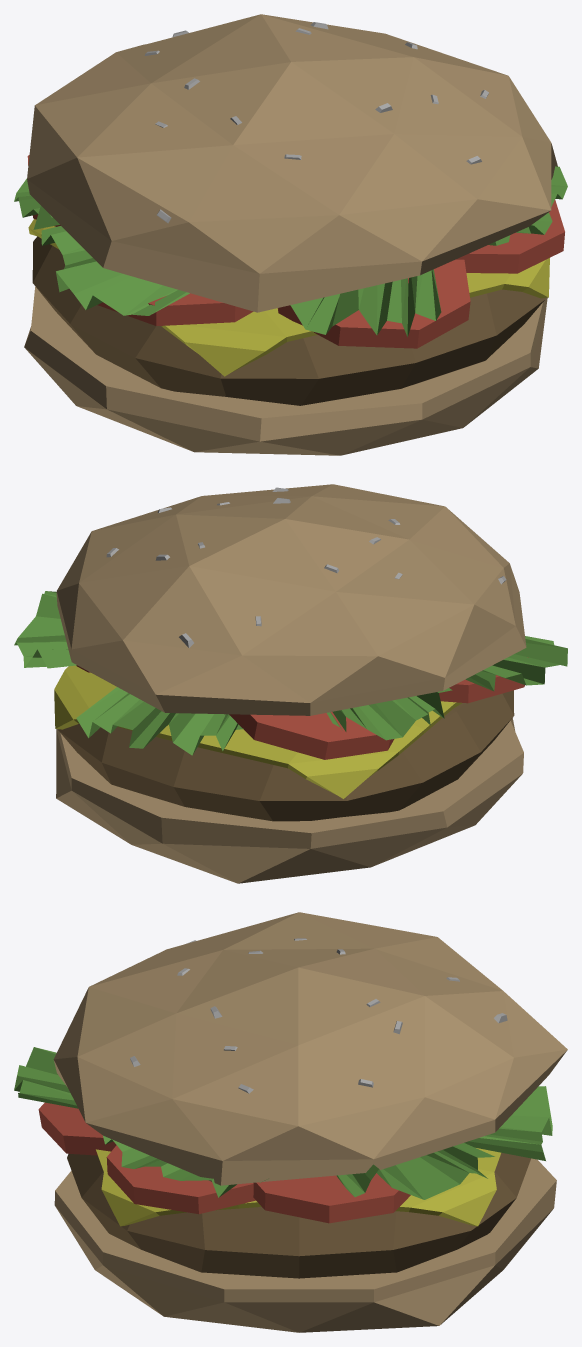
The model's file is Burger.obj.
The picture shows the model from 3 angles, top to bottom: view 1: azimuth 30°, elevation 25°; view 2: azimuth 150°, elevation 25°; view 3: azimuth 270°, elevation 25°; orthographic projection. The views are drawn at different scales.
Visible parts, largest first — view 1: mesh_0, mesh_3, mesh_5, mesh_4, mesh_2, mesh_1; view 2: mesh_0, mesh_3, mesh_5, mesh_2, mesh_4, mesh_1; view 3: mesh_0, mesh_3, mesh_4, mesh_5, mesh_2, mesh_1.
Boxes of the visible parts, left/top/right/bottom form: mesh_0: left=24, top=14, right=557, bottom=455; mesh_3: left=32, top=236, right=545, bottom=405; mesh_5: left=14, top=166, right=567, bottom=337; mesh_4: left=27, top=155, right=564, bottom=348; mesh_2: left=28, top=219, right=549, bottom=376; mesh_1: left=144, top=22, right=488, bottom=223; mesh_0: left=56, top=484, right=526, bottom=883; mesh_3: left=58, top=690, right=514, bottom=821; mesh_5: left=14, top=591, right=567, bottom=755; mesh_2: left=54, top=665, right=461, bottom=798; mesh_4: left=76, top=657, right=528, bottom=759; mesh_1: left=106, top=487, right=506, bottom=647; mesh_0: left=53, top=912, right=567, bottom=1332; mesh_3: left=67, top=1153, right=530, bottom=1278; mesh_4: left=38, top=1102, right=410, bottom=1223; mesh_5: left=14, top=1047, right=552, bottom=1199; mesh_2: left=96, top=1148, right=501, bottom=1226; mesh_1: left=130, top=938, right=507, bottom=1093.
Bounding box in the file's own units: 1.65 × 1.07 × 1.7.
